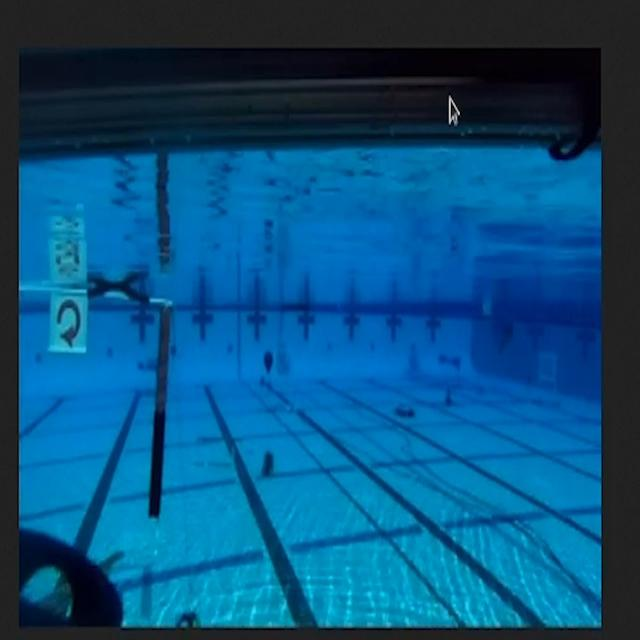Gate: (26, 280, 170, 534)
